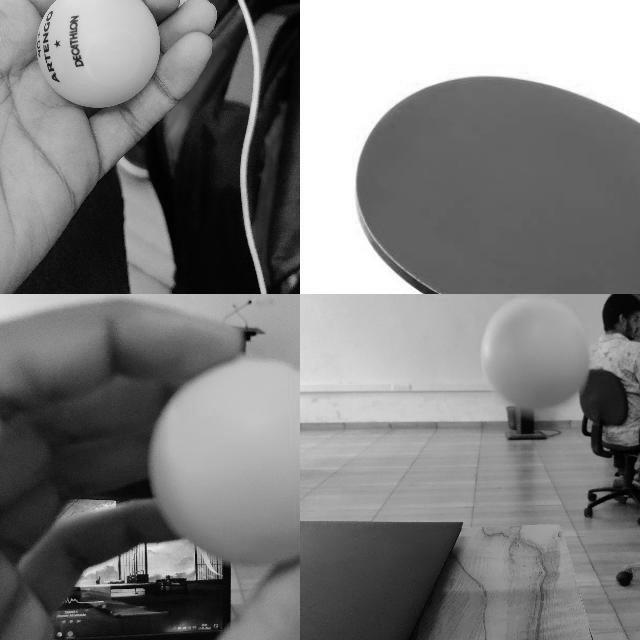ping-pong-ball: (146, 358, 299, 569), (35, 0, 160, 109), (482, 294, 588, 406)
